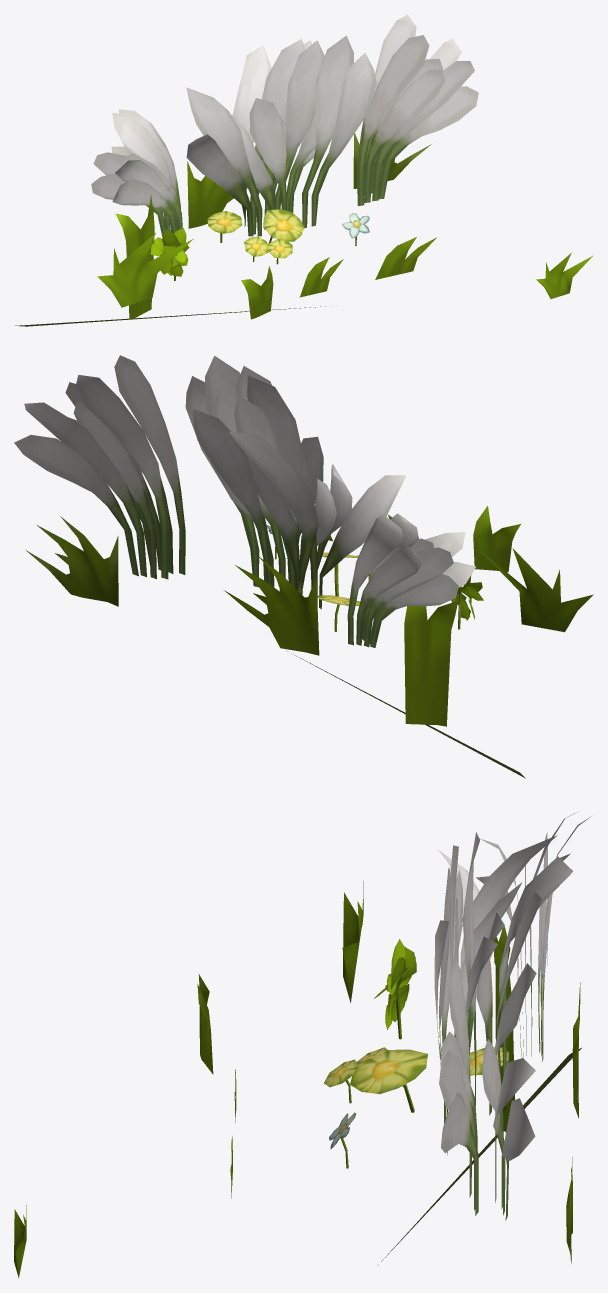
The model's file is yunmengze_luwei.FBX.
The picture shows the model from 3 angles, top to bottom: view 1: azimuth 30°, elevation 25°; view 2: azimuth 150°, elevation 25°; view 3: azimuth 270°, elevation 25°; orthographic projection. The views are drawn at different scales.
Visible parts, largest first — view 1: Object002; view 2: Object002; view 3: Object002.
Part boxes in pixels (box(x1,y1,x2,y2)): Object002: box(15, 14, 593, 326); Object002: box(14, 355, 593, 778); Object002: box(14, 811, 591, 1278).
Size of the model in its own units: 127 by 68.9 by 85.19.
